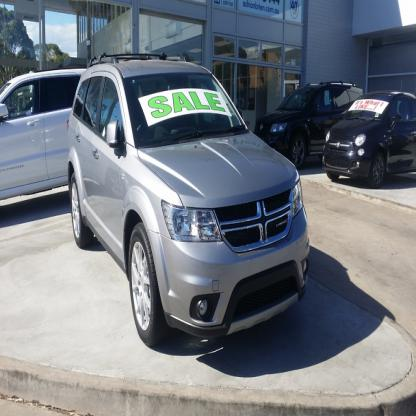Car: (66, 48, 310, 348), (0, 66, 86, 200), (322, 80, 415, 188), (254, 79, 364, 170)
